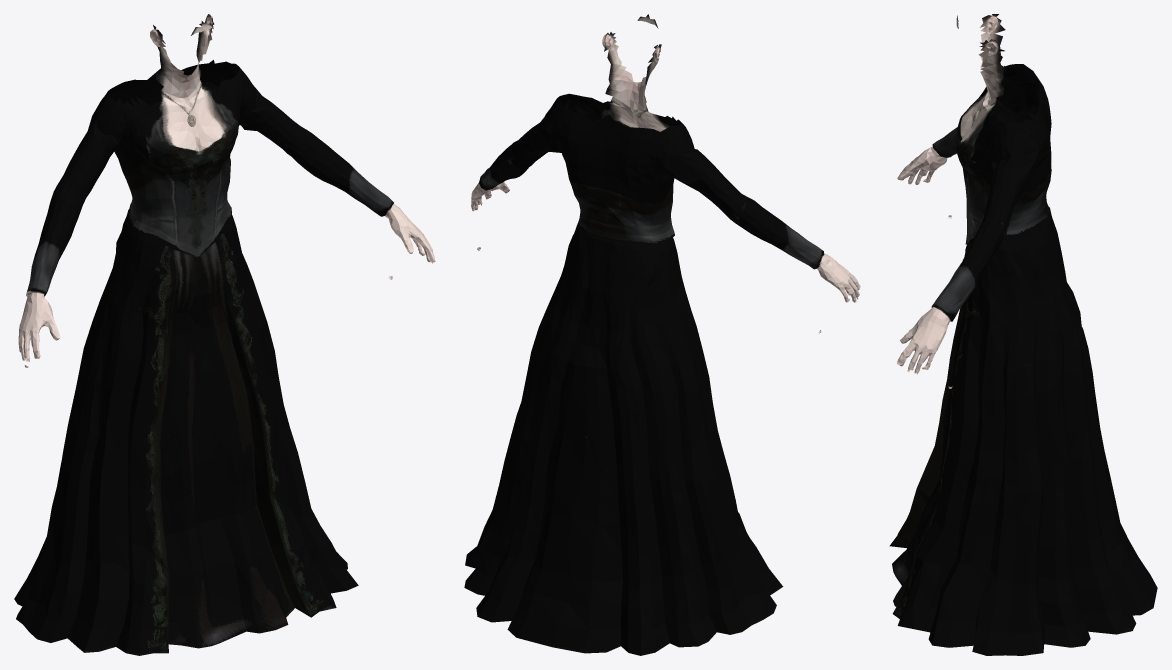
Rendered from ewm_t2vampire_outfit.glb.
The picture shows the model from 3 angles, left to right: view 1: azimuth 30°, elevation 25°; view 2: azimuth 150°, elevation 25°; view 3: azimuth 270°, elevation 25°; orthographic projection. The views are drawn at different scales.
Visible parts, largest first — view 1: ewm_t2vampire_outfit; view 2: ewm_t2vampire_outfit; view 3: ewm_t2vampire_outfit.
Boxes of the visible parts, bbox=[...] form: ewm_t2vampire_outfit: bbox=[14, 14, 435, 655]; ewm_t2vampire_outfit: bbox=[464, 14, 860, 655]; ewm_t2vampire_outfit: bbox=[889, 14, 1157, 655].
Bounding box in the file's own units: 1.3 × 1.83 × 0.7729.
Materials: 1 (1 with a texture image).
